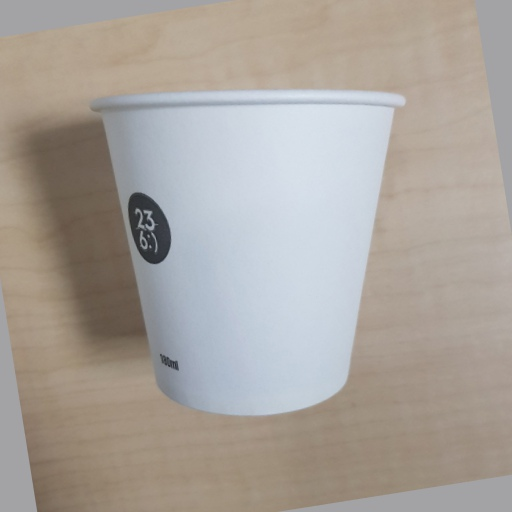Paper_1: (87, 93, 413, 417)
